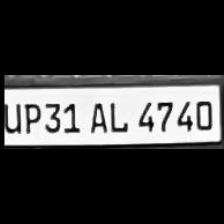0: (192, 96, 214, 130)
1: (59, 98, 81, 134)
3: (40, 99, 60, 136)
4: (132, 96, 154, 132), (174, 96, 192, 132)
7: (153, 96, 171, 132)
A: (84, 98, 108, 134)
L: (106, 96, 128, 132)
P: (19, 100, 41, 134)
U: (0, 99, 20, 134)
